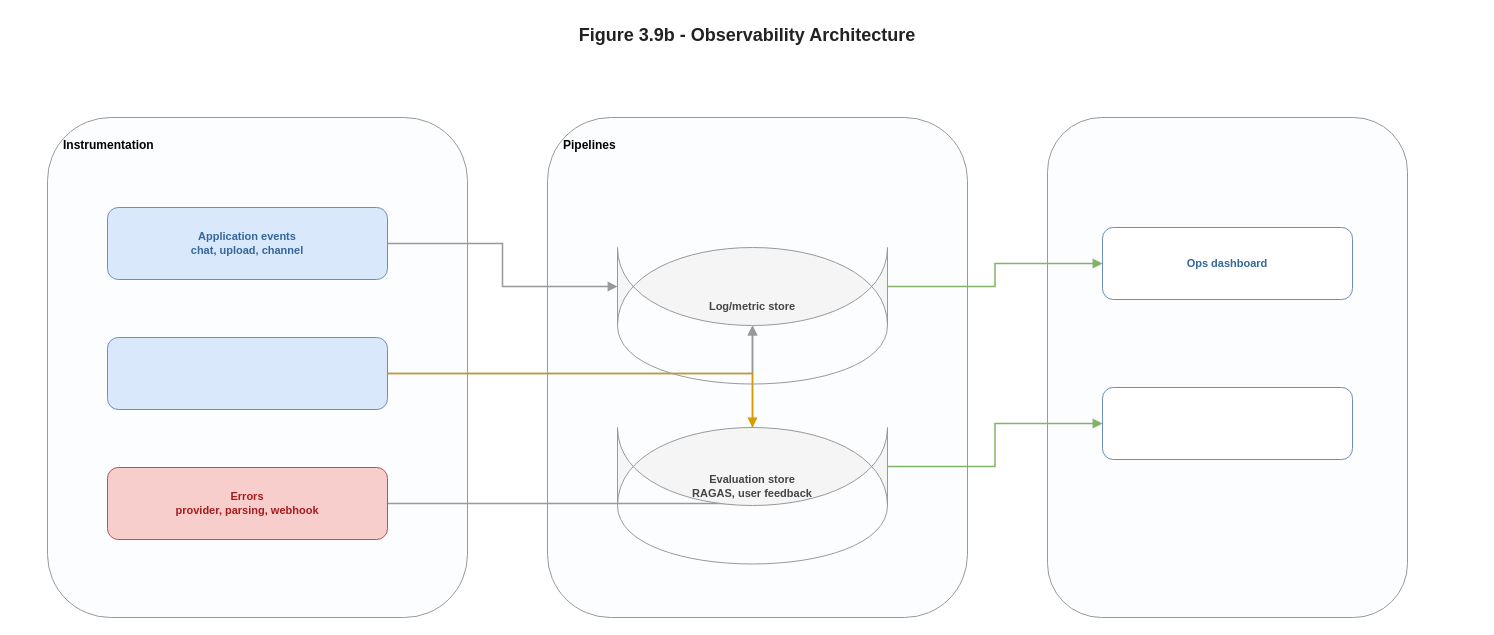
Some shapes in this 1494 by 635 pixel diagram are drawn without their labels. The shapes that lost their labels are listed below. From the top down, each one's box as (x1, y1, x2, y2) in pixels, then its label:
(106, 336, 388, 410): RAG metrics latency, top_k, CRAG verdict
(1046, 116, 1408, 618): Dashboards and review
(1102, 386, 1352, 460): Quality dashboard
